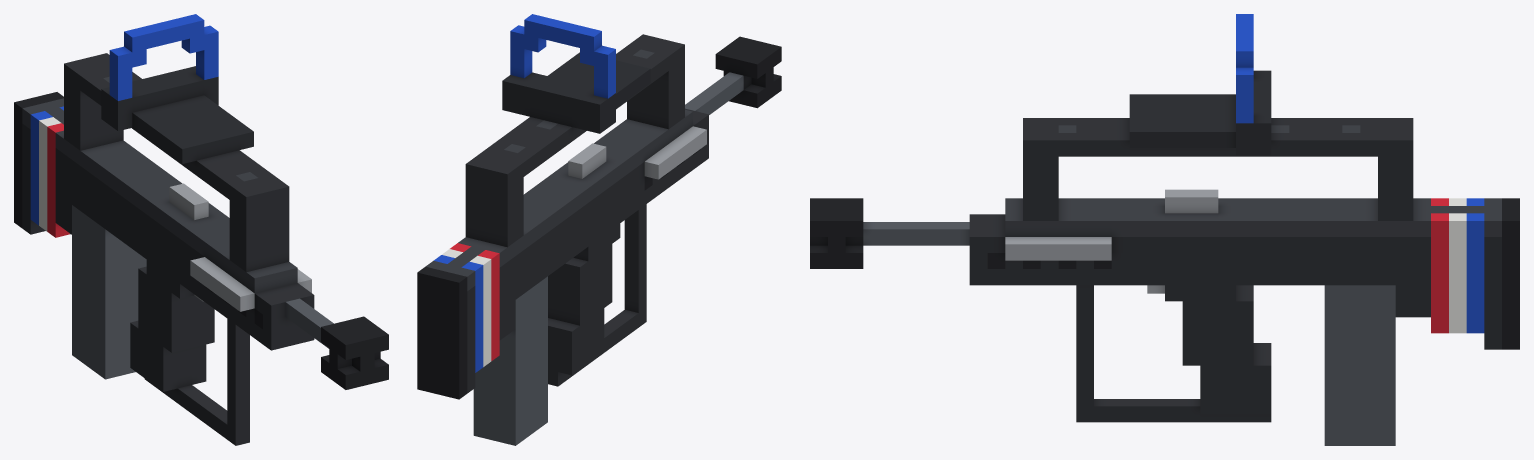
Rendered from famas.glb.
The picture shows the model from 3 angles, left to right: view 1: azimuth 30°, elevation 25°; view 2: azimuth 150°, elevation 25°; view 3: azimuth 270°, elevation 25°; orthographic projection. The views are drawn at different scales.
Parts seen in each view (by area): view 1: famas_body; view 2: famas_body; view 3: famas_body.
Boxes of the visible parts, x1,y1,x2,y2 form: famas_body: (14, 14, 388, 445); famas_body: (417, 14, 781, 445); famas_body: (810, 14, 1519, 445).
Size of the model in its own units: 0.2734 by 0.9766 by 1.56.
1 material, 1 textured.
